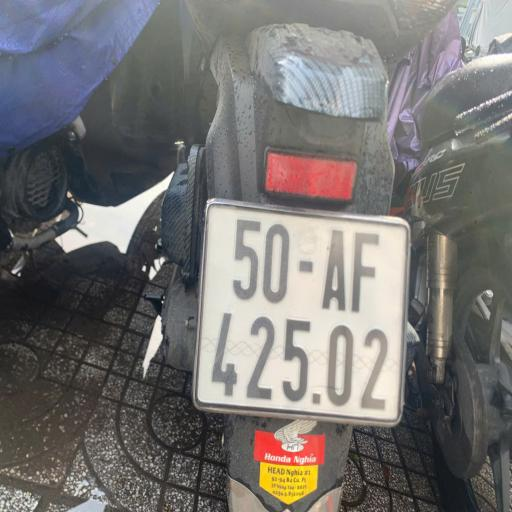0: (259, 218, 297, 310), (324, 319, 362, 411)
2: (362, 322, 402, 422), (244, 313, 282, 417)
4: (210, 309, 246, 396)
5: (278, 316, 312, 408), (232, 215, 264, 301)
A: (316, 222, 350, 320)
F: (351, 230, 388, 318)
